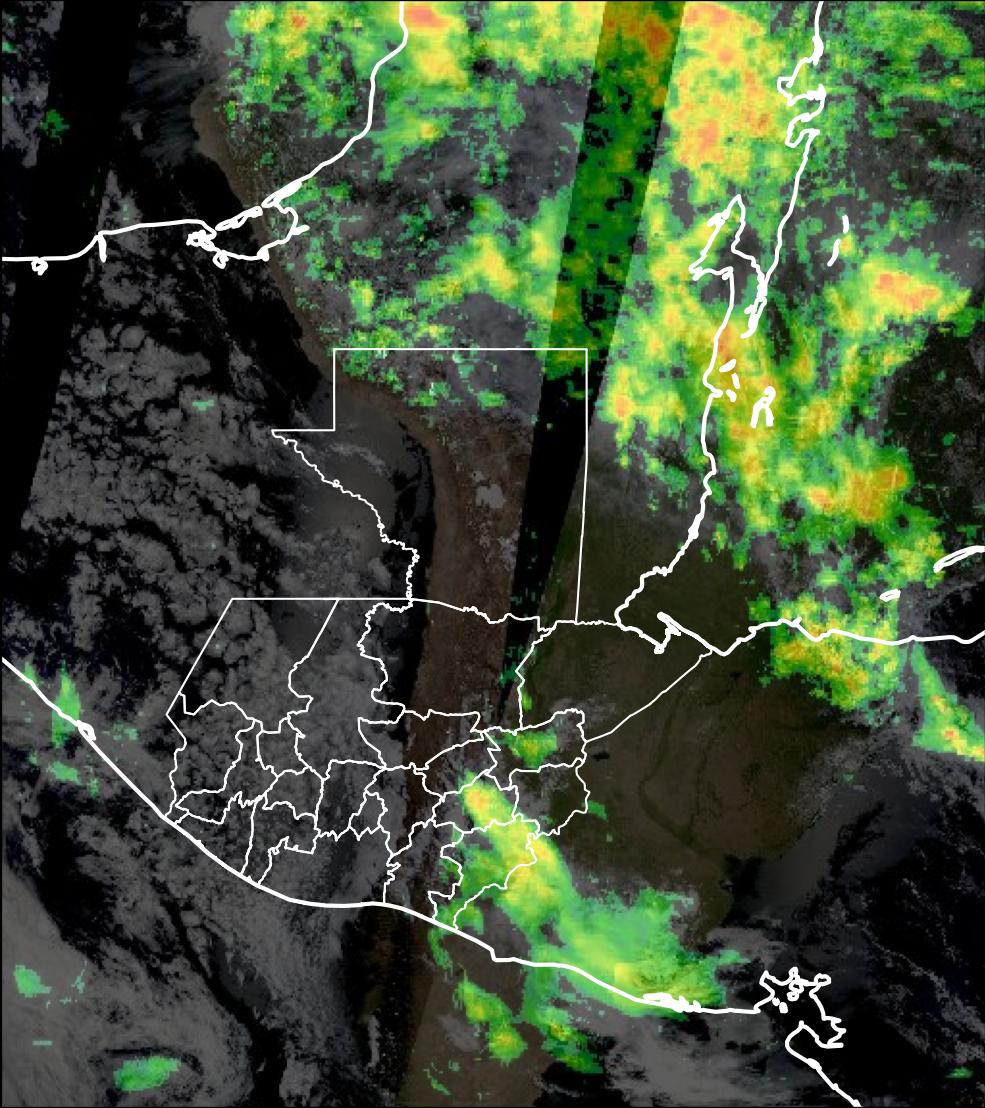precipitacion: (676, 6, 782, 97), (868, 263, 964, 326), (402, 3, 467, 80)
